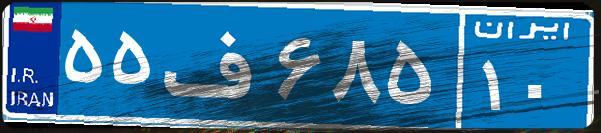0: (525, 38, 570, 115)
1: (475, 38, 525, 113)
5: (385, 28, 445, 110), (57, 26, 110, 107), (110, 28, 158, 105)
6: (273, 28, 330, 110)
8: (330, 28, 385, 110)
ف: (158, 15, 273, 115)
